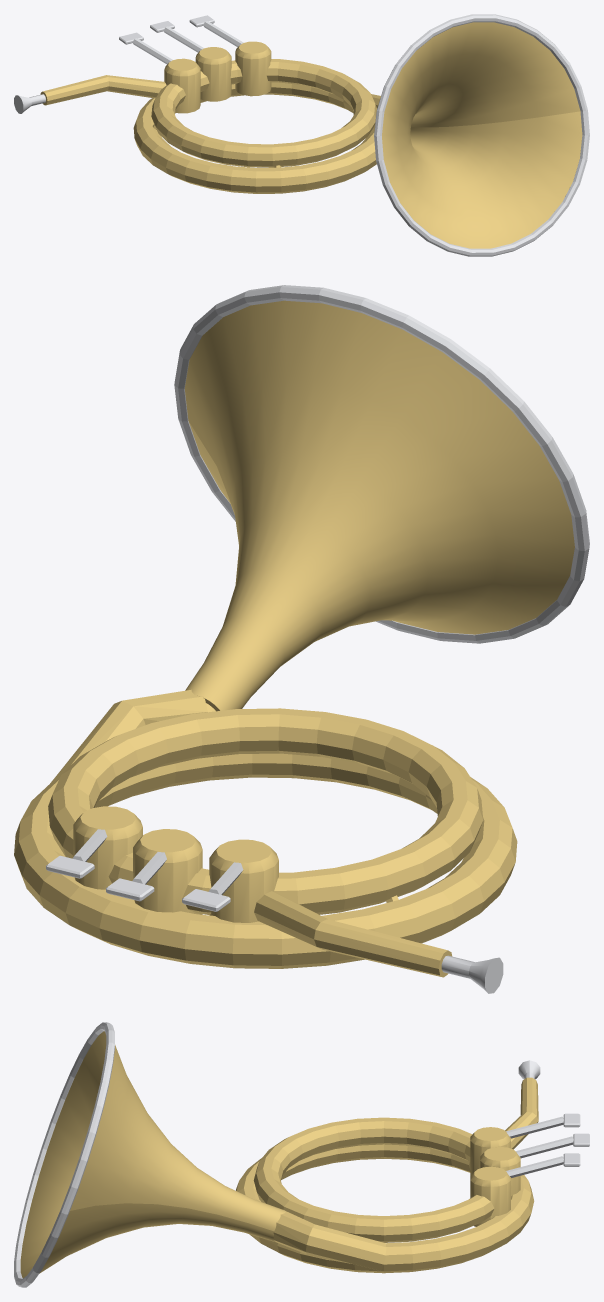
File: orchestra-and-band-instruments-french-horn-ee515723__39295.glb
The picture shows the model from 3 angles, top to bottom: view 1: azimuth 30°, elevation 25°; view 2: azimuth 150°, elevation 25°; view 3: azimuth 270°, elevation 25°; orthographic projection. The views are drawn at different scales.
Visible parts, largest first — view 1: french-horn; view 2: french-horn; view 3: french-horn.
Part boxes in pixels (bbox=[...]): french-horn: bbox=[14, 14, 589, 256]; french-horn: bbox=[14, 285, 589, 993]; french-horn: bbox=[14, 1022, 589, 1287].
Size of the model in its own units: 0.4665 by 0.2513 by 0.5532.
